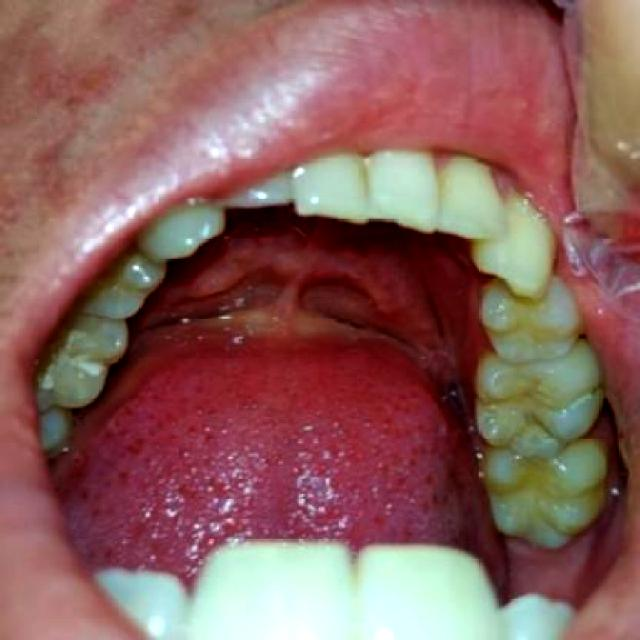Plaque: (486, 379, 566, 448)
